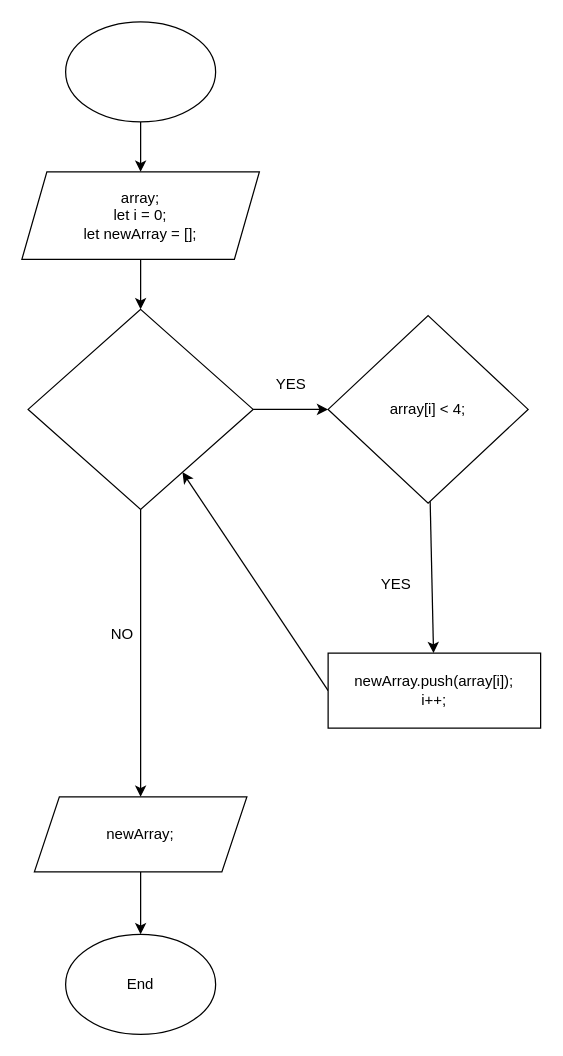
The diagram is 563 pixels wide and 1056 high, and some of its shapes have lost their labels. The centre of each missing label's shape, as x and y in pixels:
"i < array.length;" goes at [140,408].
"Start" goes at [140,71].
